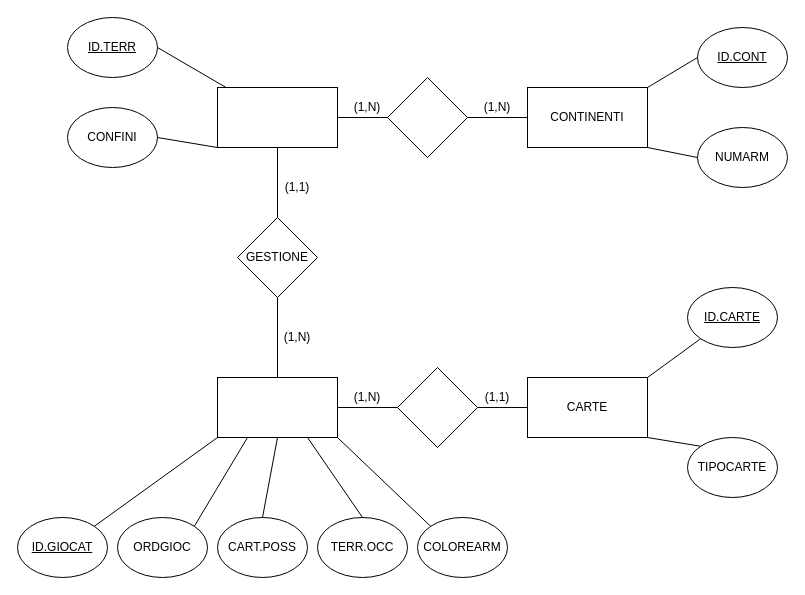
Some shapes in this 805 by 595 pixel diagram are drawn without their labels. The centre of each missing label's shape, as x and y in pixels:
GIOCATORI: (x=277, y=407)
MAPPAT.: (x=427, y=117)
PESCATA: (x=437, y=407)
TERRITORI: (x=277, y=117)
